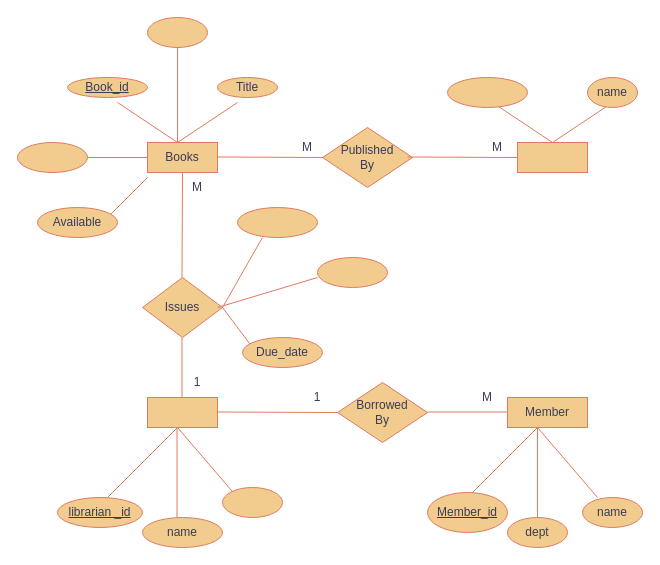
This 660x565 diagram has some shape labels left out. The box of each missing label's shape, as (x1, y1, x2, y2) in pixels:
Author: (146, 16, 208, 48)
issue_date: (236, 206, 318, 238)
Librarian: (146, 396, 218, 428)
phone_no: (222, 486, 282, 518)
Price: (16, 142, 88, 172)
Publisher: (516, 142, 588, 172)
publisher_id: (446, 76, 528, 108)
return_date: (316, 256, 388, 288)
